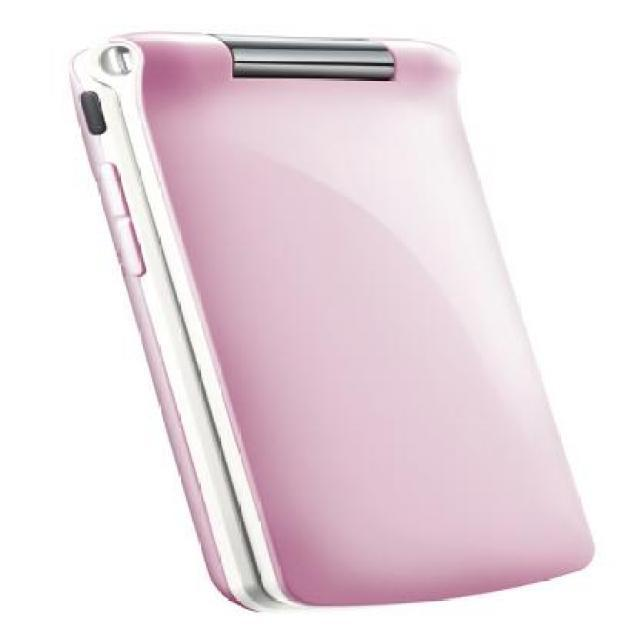phone: (57, 34, 593, 616)
